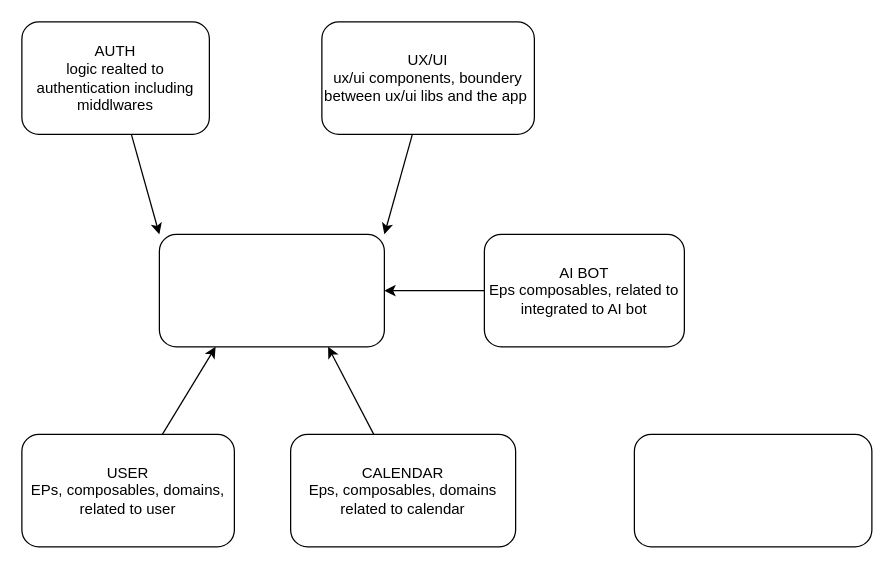
Some shapes in this 894 by 569 pixel diagram are drawn without their labels. Each missing label, with the centre of its shape:
BASE Database connection common nuxt configs Shared utils, plugins and so on: the point at 752,490
Nuxt: the point at 271,290
